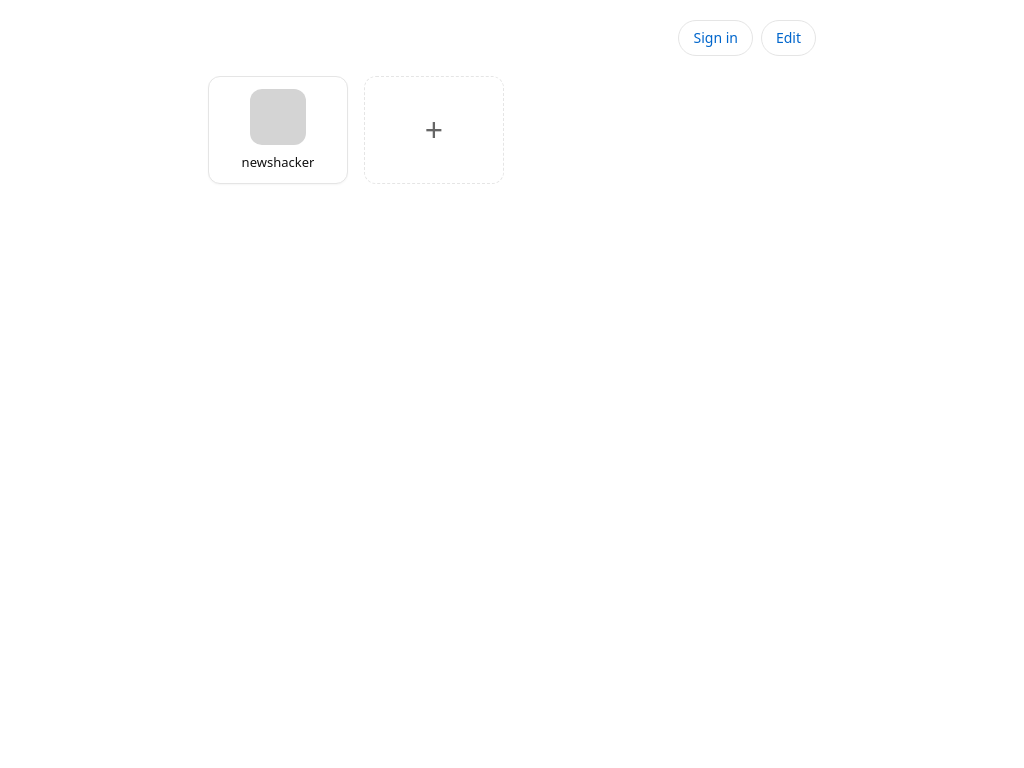
Scenario: Home › shows an error and does not save when the URL is invalid
This screenshot has width=1024, height=768.
Click the button named "Add link": (434, 130) [364, 76, 504, 184]
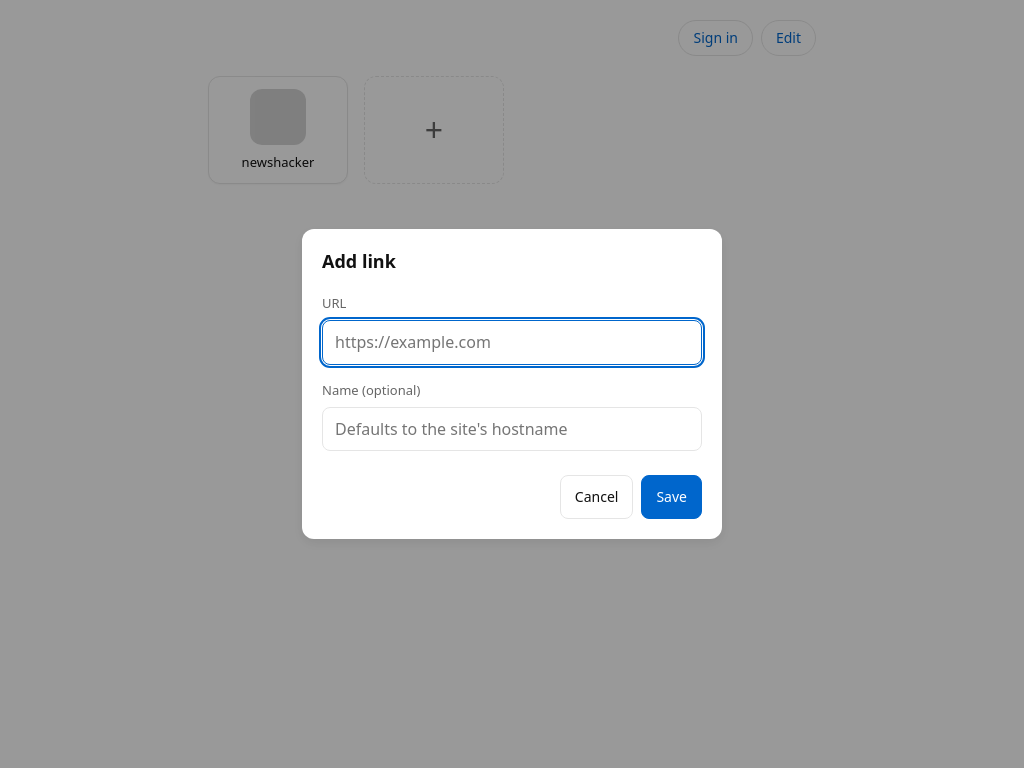
In the field labelled "URL": (512, 342) [322, 320, 702, 365], type "not-a-url"
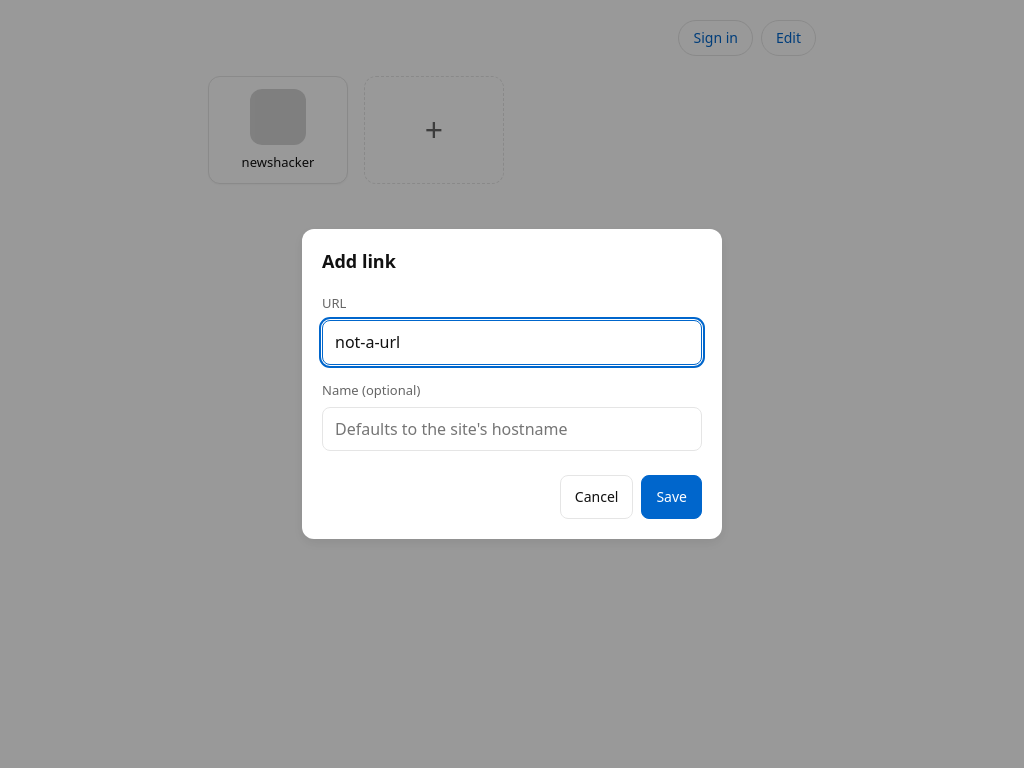
Click the button "Save": (672, 497) [641, 475, 702, 519]
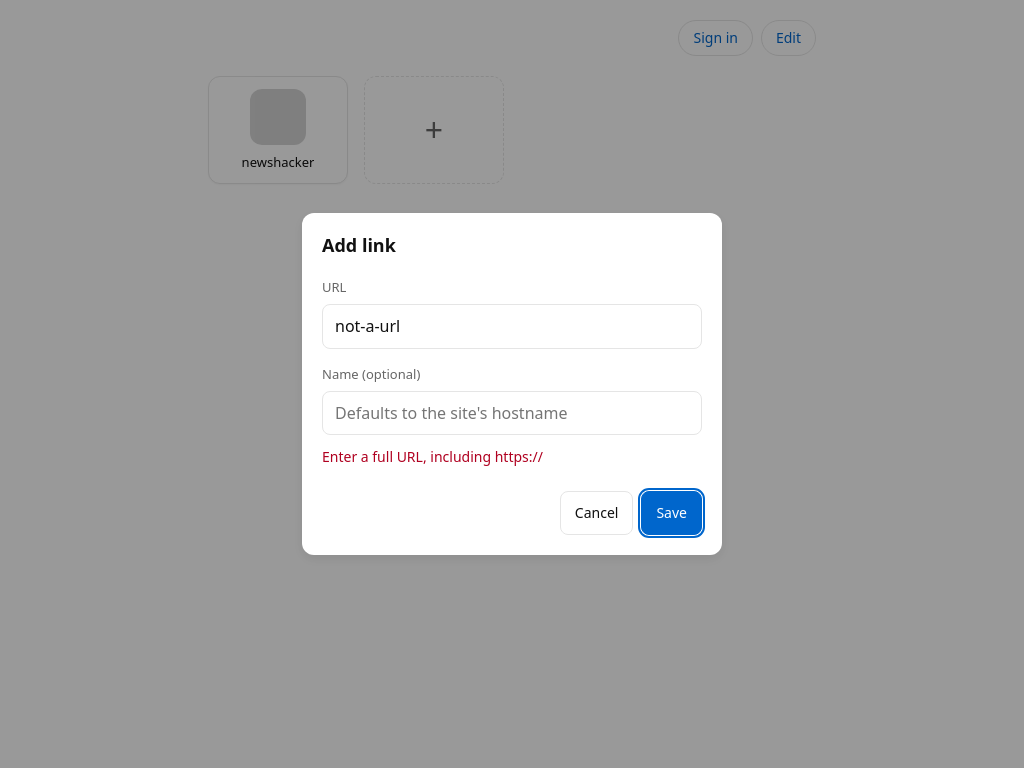
Expected: the message shows "full URL", [322, 447, 543, 466]
